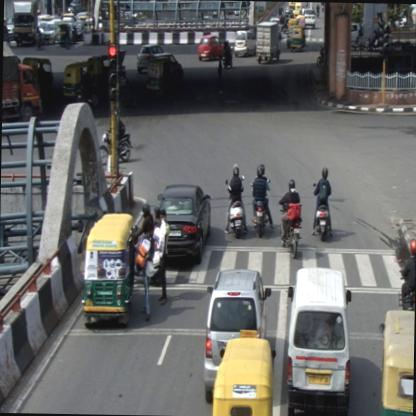car: (286, 267, 352, 415), (204, 265, 270, 404), (153, 186, 211, 262), (198, 34, 226, 60), (233, 30, 256, 56), (302, 8, 314, 29)
motorcycle: (280, 180, 302, 256), (224, 162, 245, 238), (251, 164, 270, 237), (313, 165, 331, 239)
truck: (1, 42, 42, 124), (11, 0, 37, 47), (256, 20, 281, 64)
